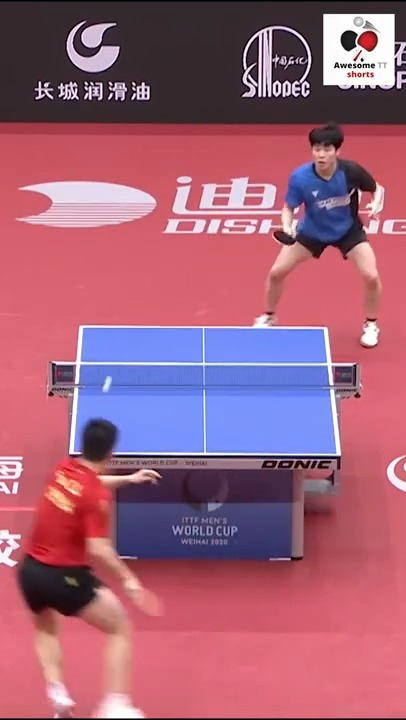Ball: (101, 371, 116, 399)
